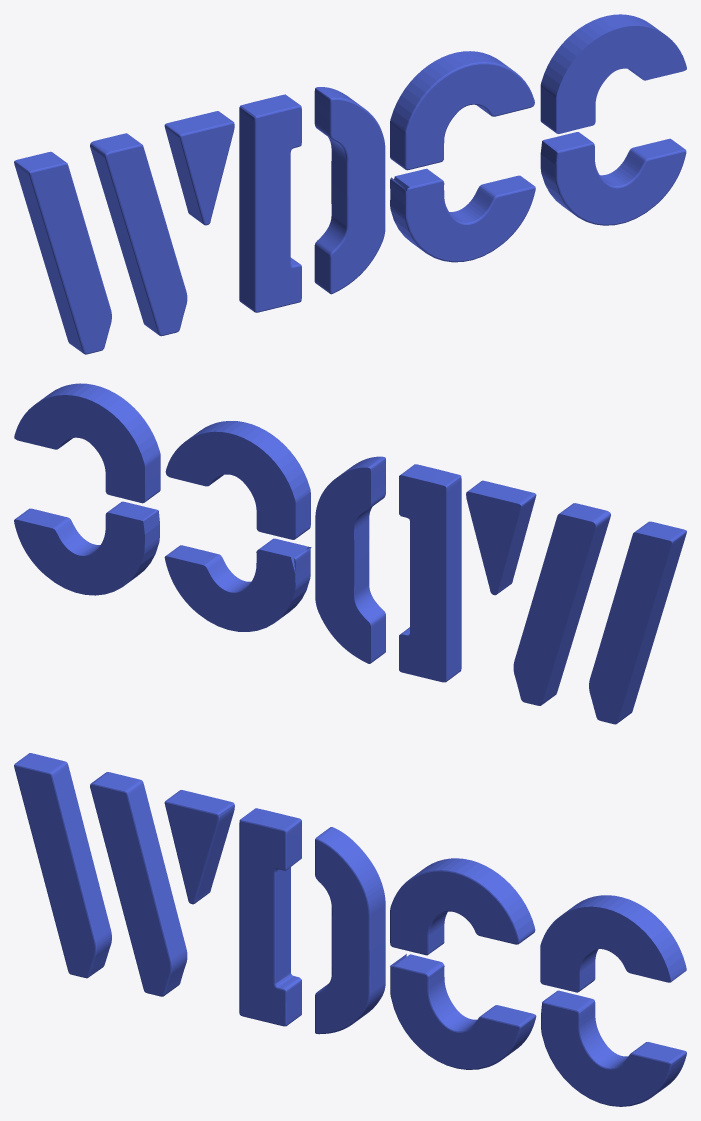
The model's file is wdcc.glb.
3 views of the same model, one above another, from view 1: azimuth 30°, elevation 25°; view 2: azimuth 150°, elevation 25°; view 3: azimuth 330°, elevation 25° (orthographic).
Visible parts, largest first — view 1: WDCC; view 2: WDCC; view 3: WDCC.
Part boxes in pixels (bbox=[...]): WDCC: bbox=[14, 14, 686, 354]; WDCC: bbox=[14, 383, 686, 724]; WDCC: bbox=[14, 753, 686, 1106].
Size of the model in its own units: 2 by 0.5735 by 0.0872.
